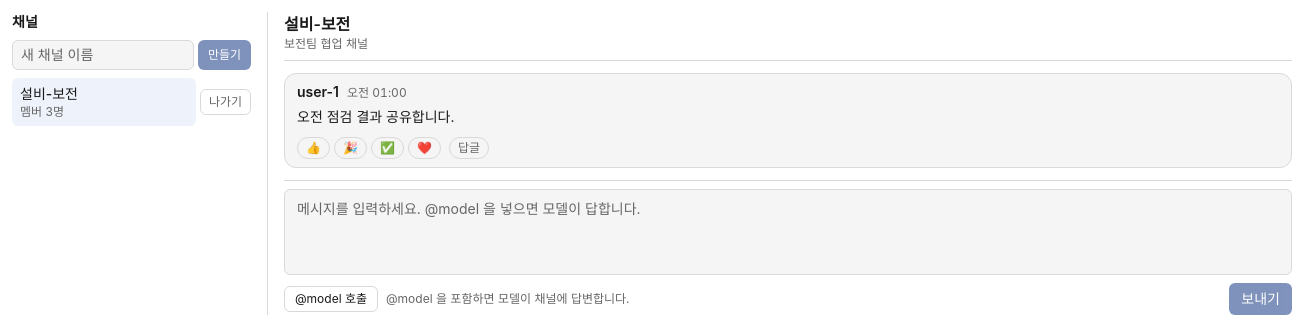
Test: ChannelsWorkspace › @model 삽입 버튼이 컴포저에 멘션을 넣는다
The image size is (1304, 332).
Expected: the text "오전 점검 결과 공유합니다." is shown, [297,108,454,125]
Click the button with test id "channel-mention-model": {"x": 331, "y": 299} [284,286,378,312]
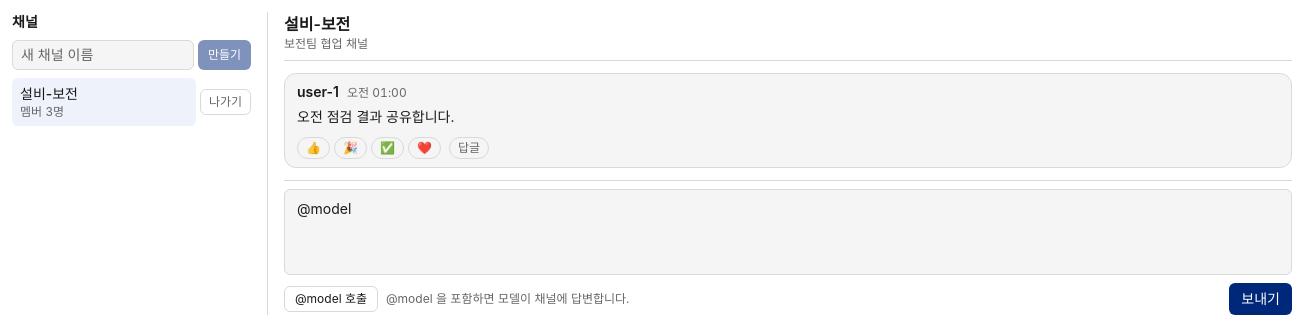
Expected: the text box named "메시지 입력" holds "@model ", [284,189,1292,275]
